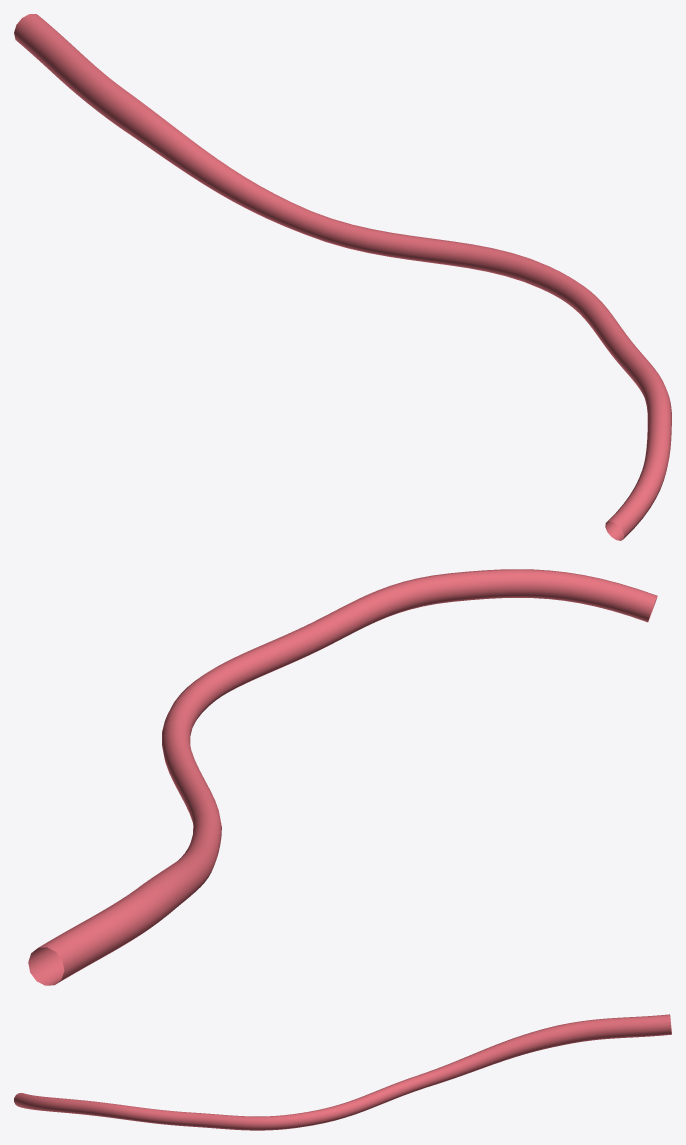
The picture shows the model from 3 angles, top to bottom: view 1: azimuth 30°, elevation 25°; view 2: azimuth 150°, elevation 25°; view 3: azimuth 270°, elevation 25°; orthographic projection. The views are drawn at different scales.
Visible parts, largest first — view 1: ZA_c337c15070eb8426; view 2: ZA_c337c15070eb8426; view 3: ZA_c337c15070eb8426.
Boxes of the visible parts, left/top/right/bottom form: ZA_c337c15070eb8426: left=14, top=14, right=671, bottom=540; ZA_c337c15070eb8426: left=28, top=569, right=657, bottom=985; ZA_c337c15070eb8426: left=14, top=1014, right=671, bottom=1130.
Size of the model in its own units: 0.00774 by 0.0043 by 0.032.
